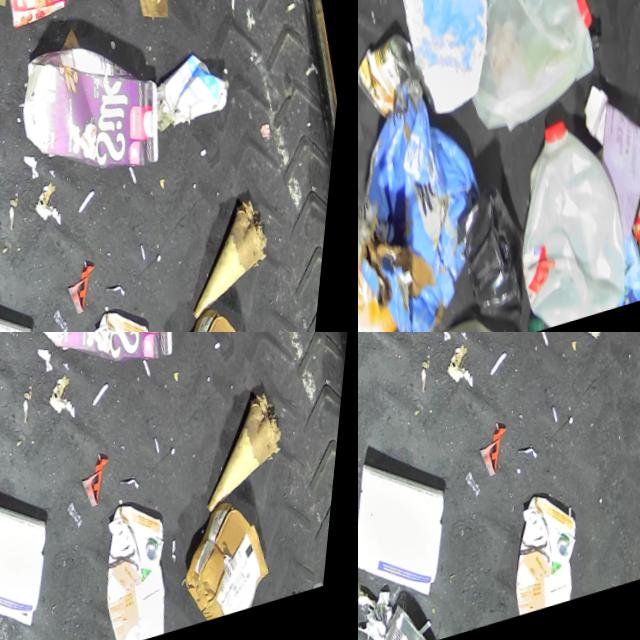can: (358, 29, 436, 129), (367, 597, 450, 640), (0, 0, 83, 36), (621, 157, 640, 281)
milk_jug: (493, 110, 640, 332), (443, 0, 625, 148), (413, 311, 529, 332)
non_white_jug: (7, 21, 185, 204), (92, 500, 200, 640), (502, 487, 606, 622), (21, 332, 198, 397)
